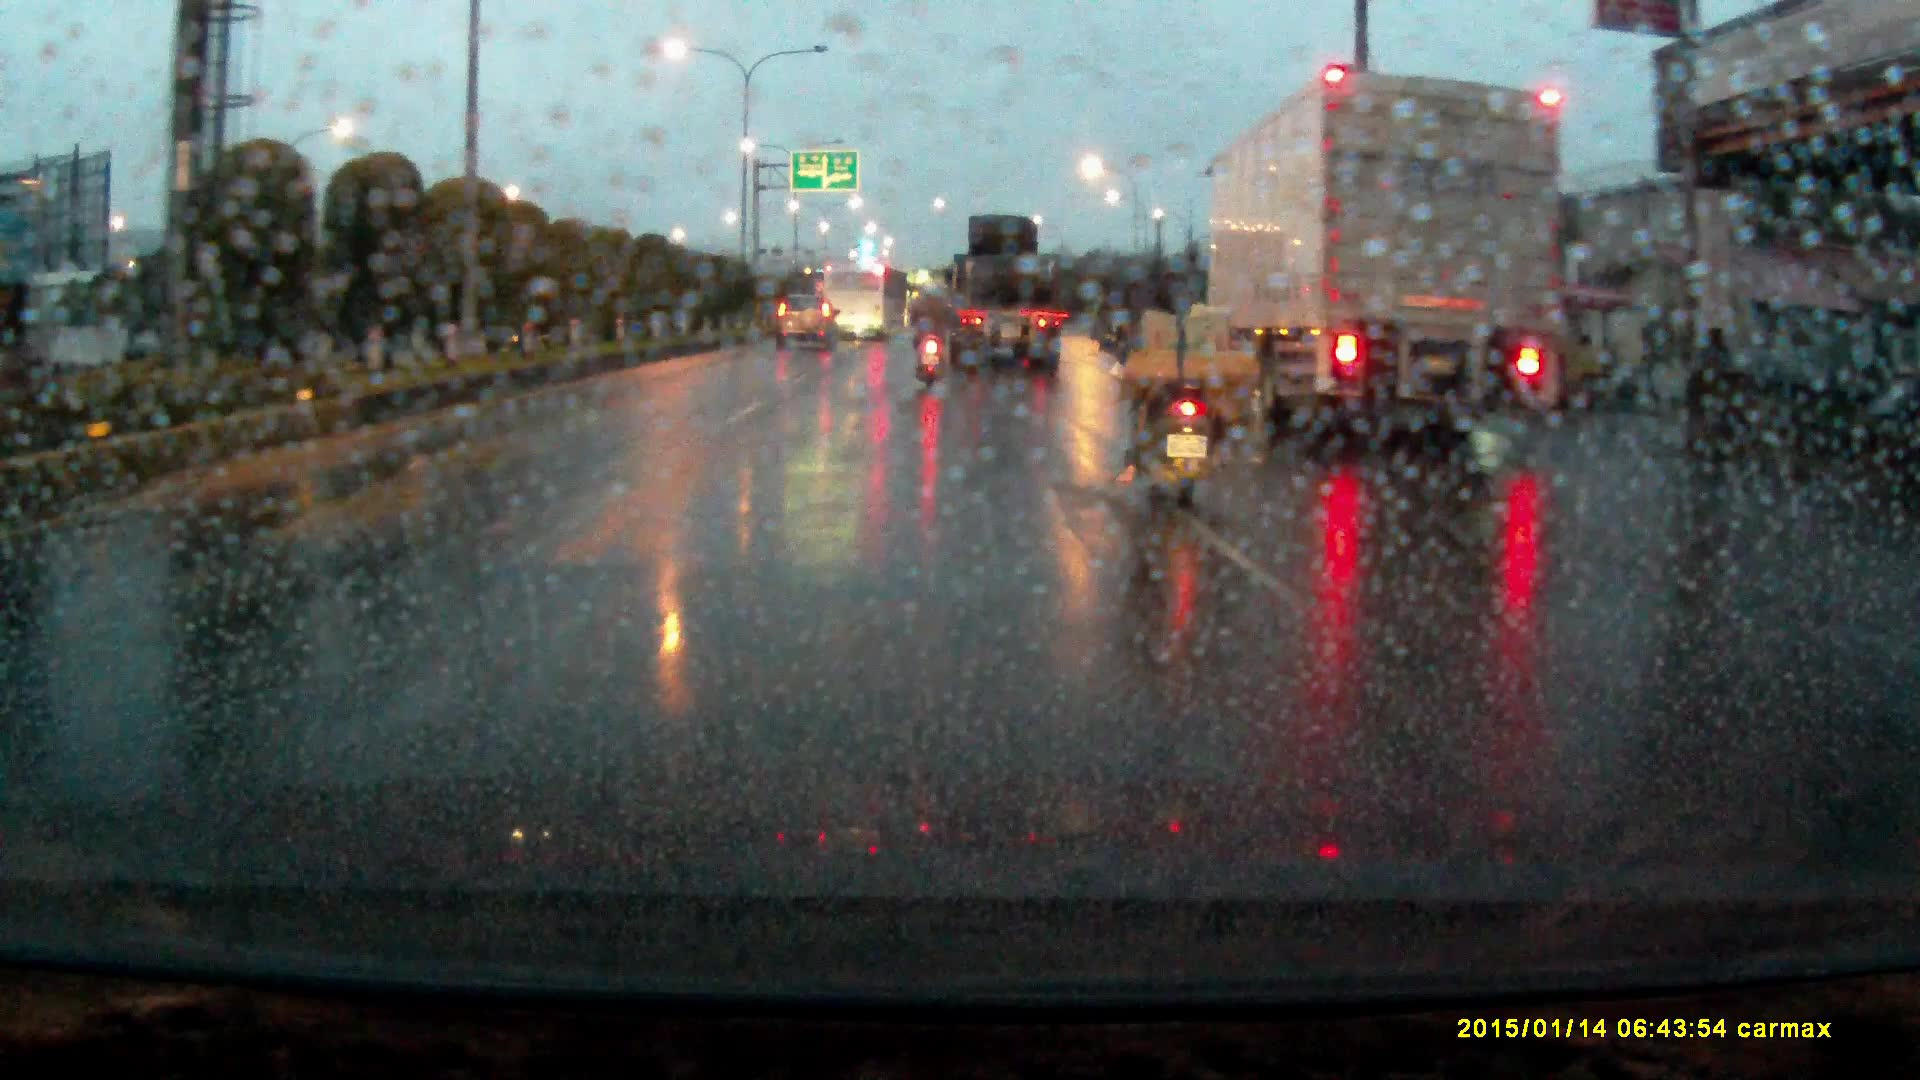rider: (1116, 253, 1255, 528), (913, 287, 954, 388)
vehicle: (1196, 69, 1568, 445), (938, 218, 1062, 375), (823, 262, 889, 339), (774, 295, 842, 355)
